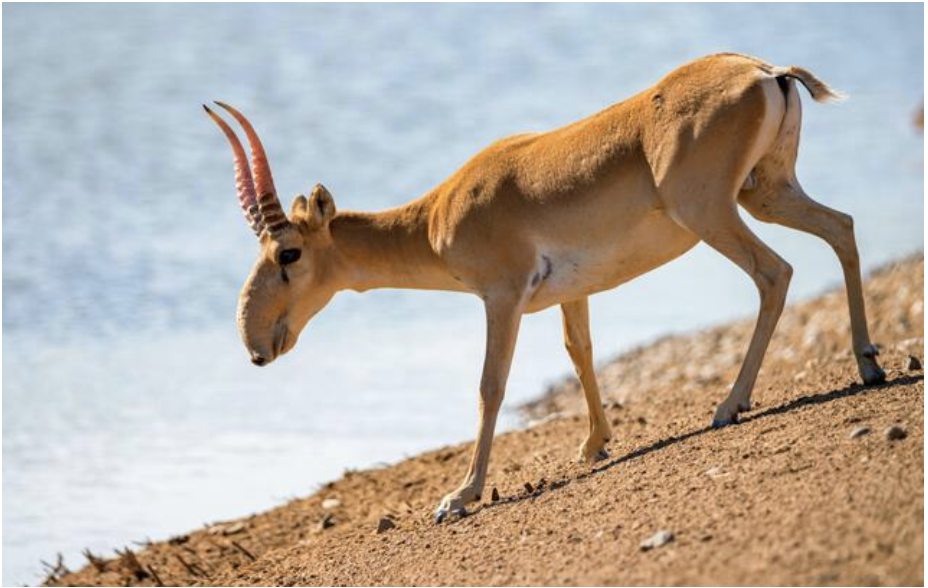saiga: (183, 42, 912, 450)
